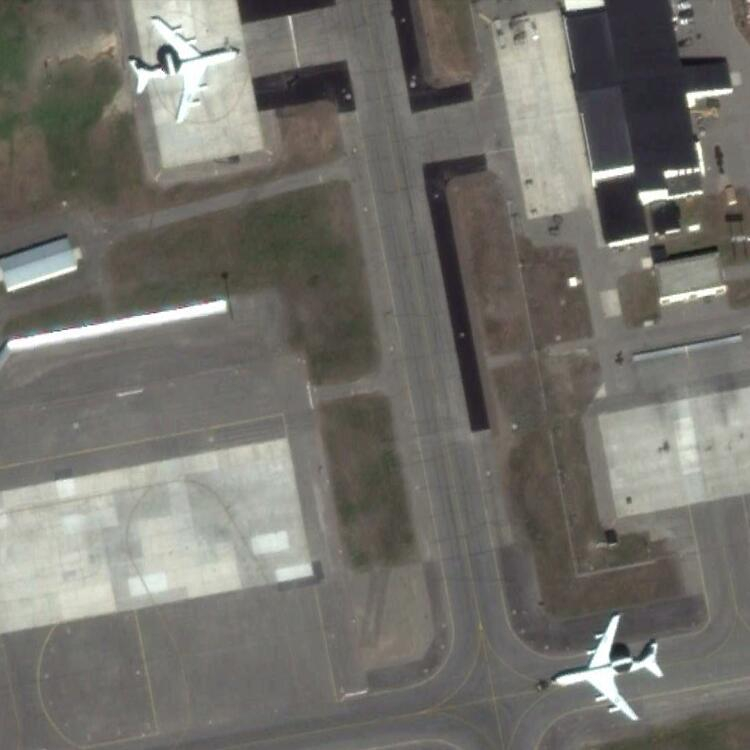A7: (126, 15, 241, 126), (546, 612, 663, 720)
